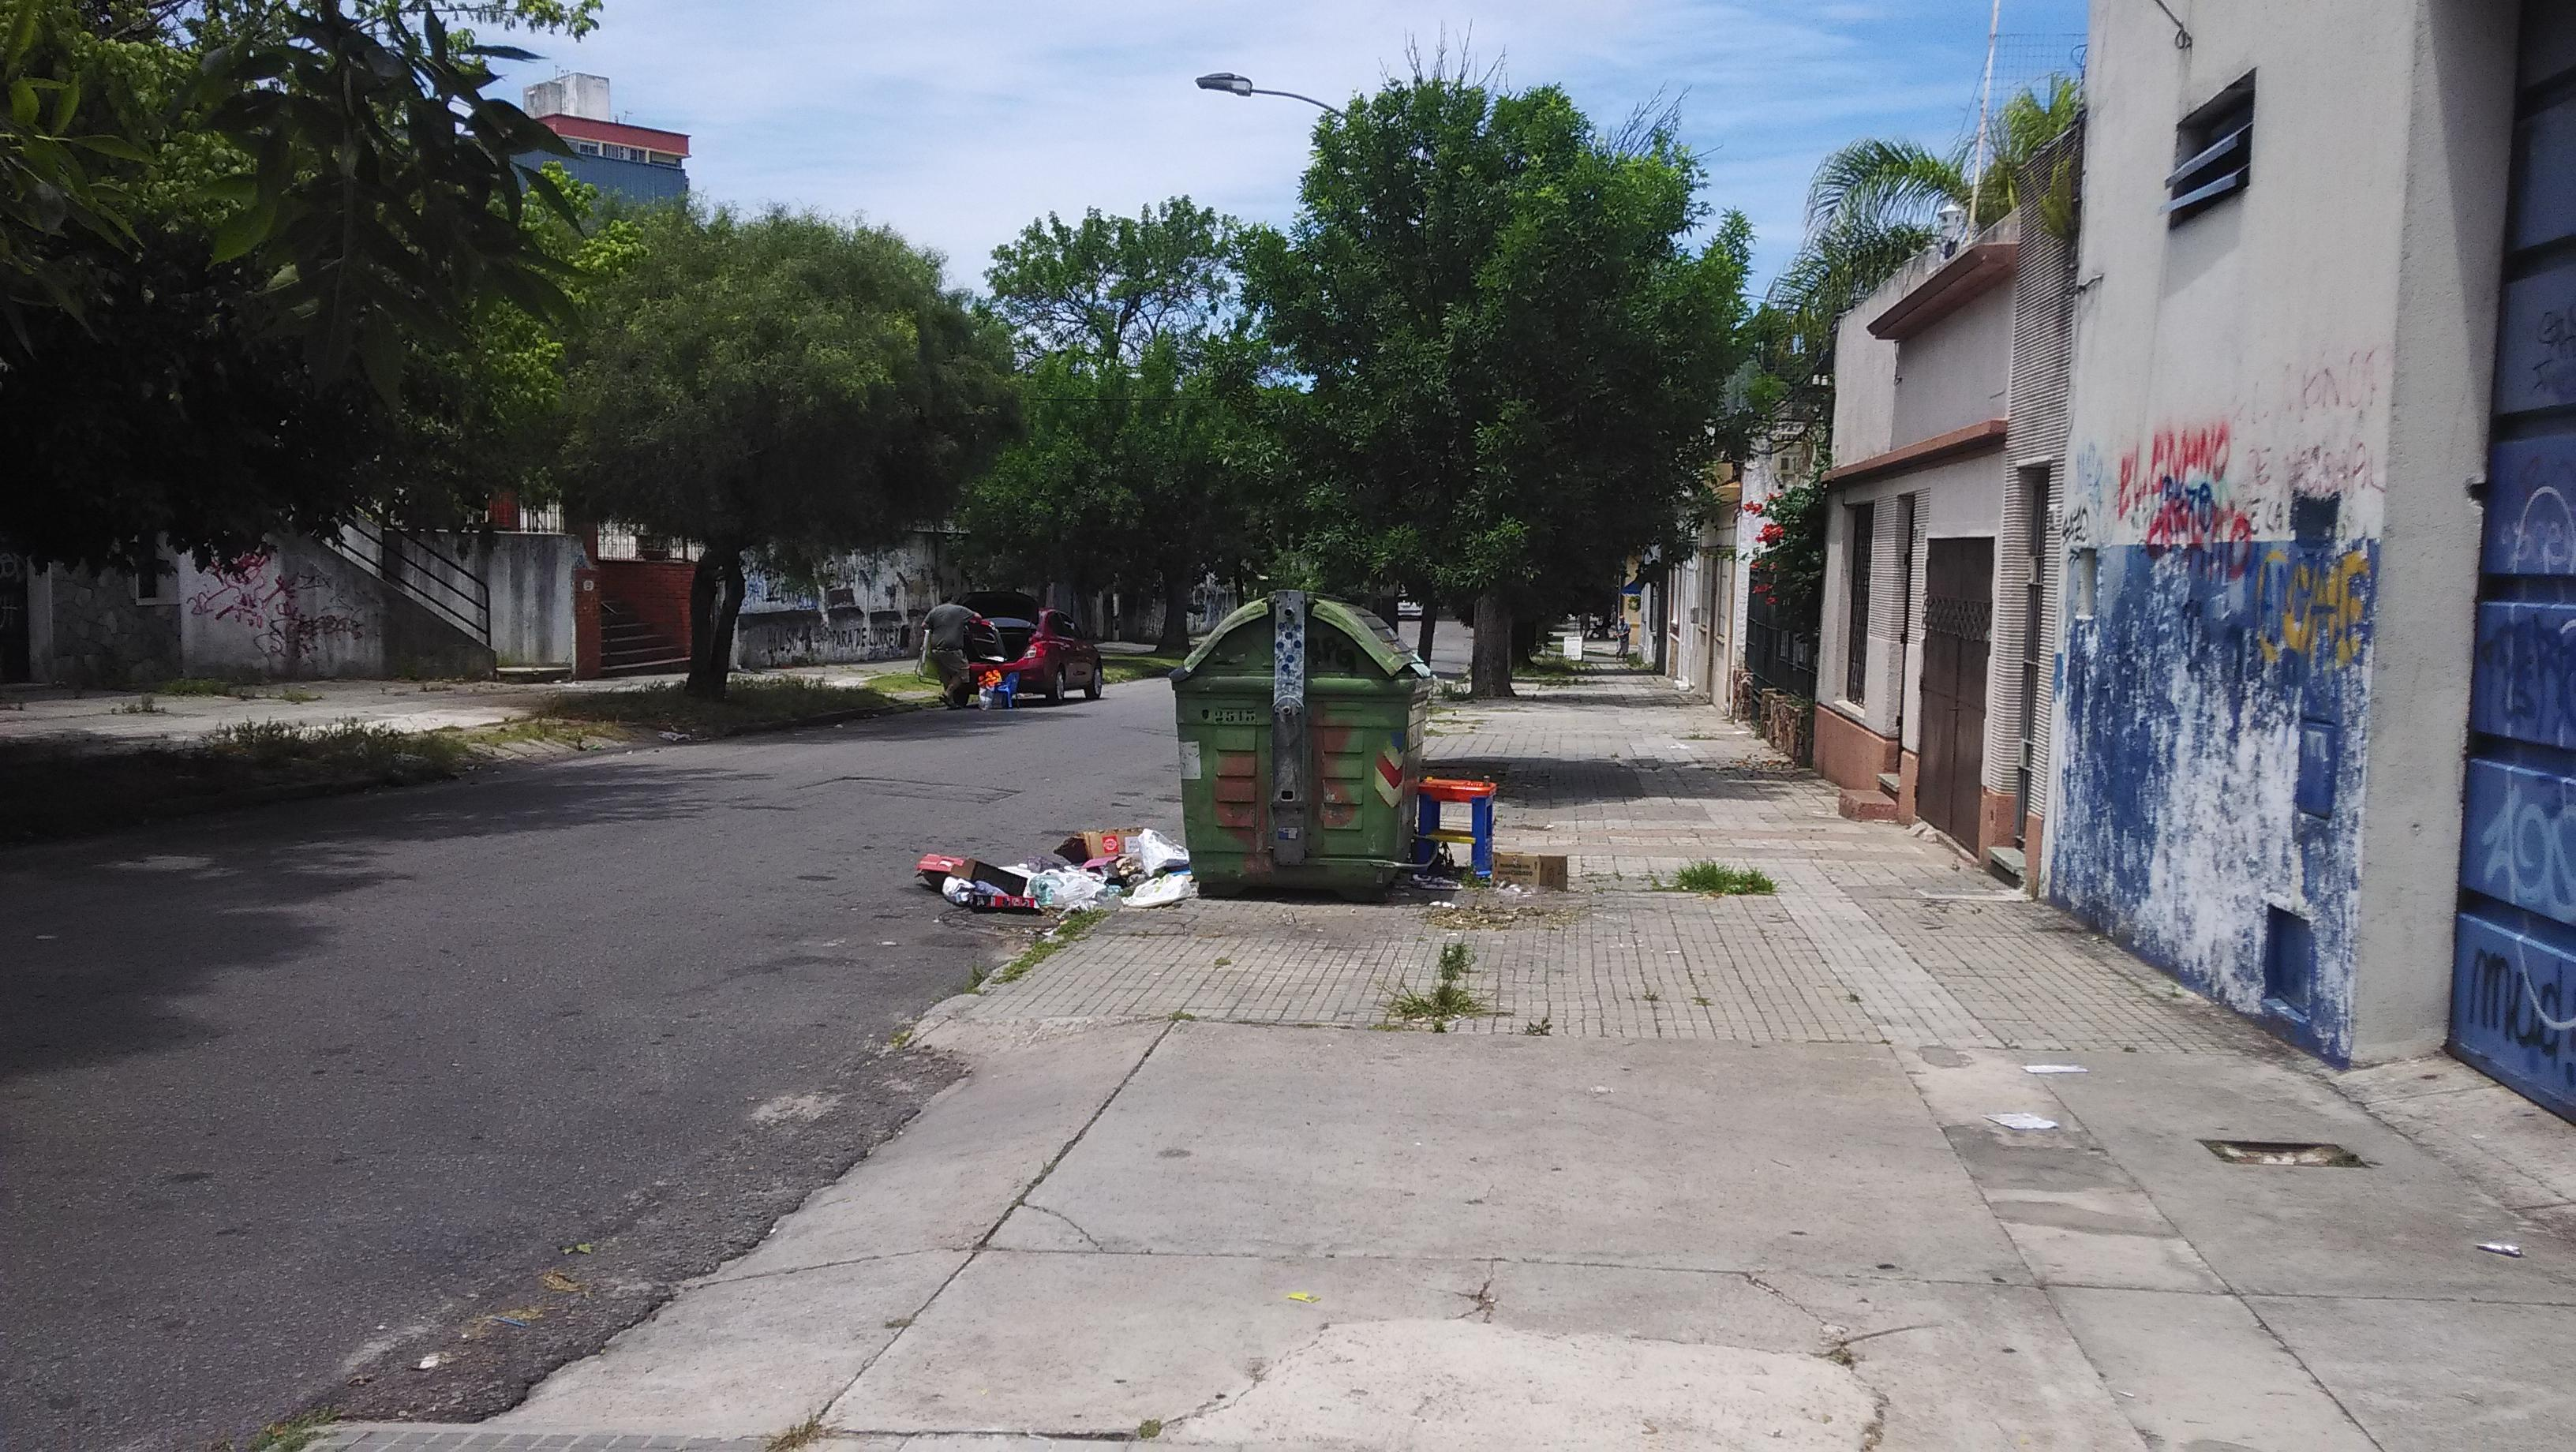Dechets: (913, 800, 1188, 922), (1415, 763, 1567, 911)
Trash: (1178, 585, 1415, 898)
